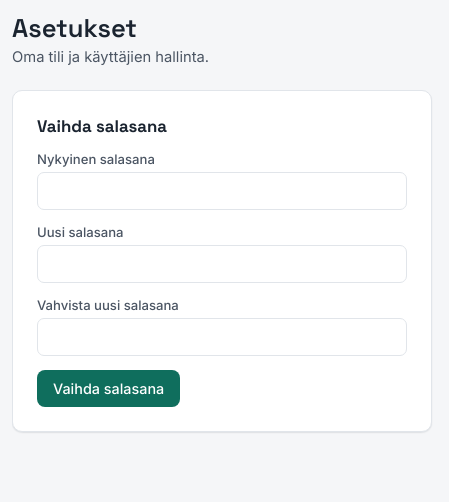
Scenario: ChangePasswordCard › kutsuu changePassword():ia ja näyttää onnistumisviestin
Type "admin123" into the password field labelled "Nykyinen salasana" at (222, 191), box [37, 172, 407, 210]
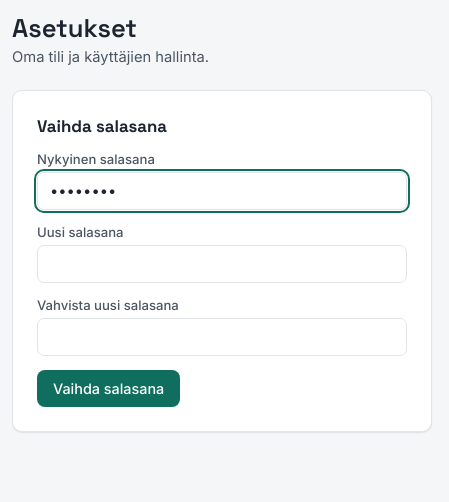
Type "uusisalasana1" into the password field labelled "Uusi salasana" at (222, 264), box [37, 245, 407, 283]
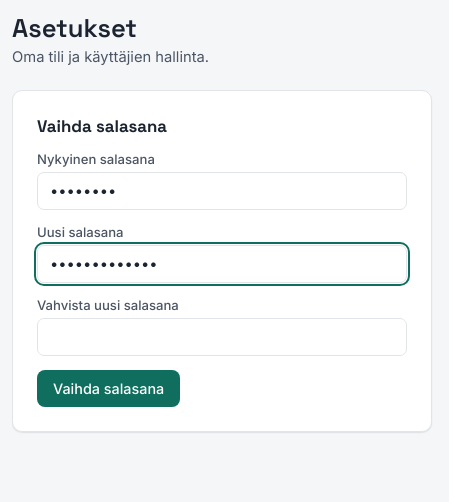
Type "uusisalasana1" into the password field labelled "Vahvista uusi salasana" at (222, 337), box [37, 318, 407, 356]
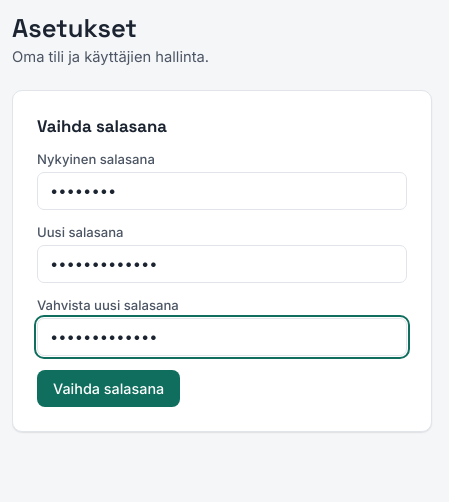
Click the button "Vaihda salasana" at (109, 388), box [37, 370, 180, 407]
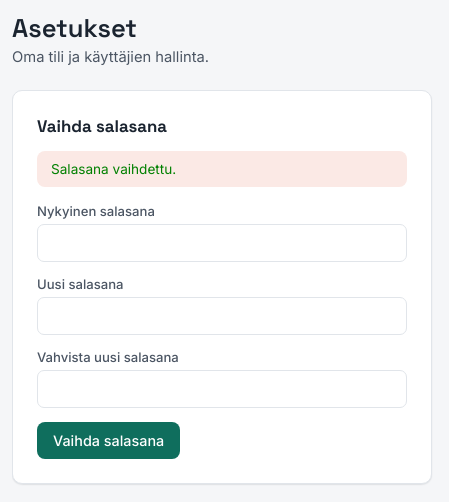
Check: the text "Salasana vaihdettu." is shown, box [37, 151, 407, 187]
